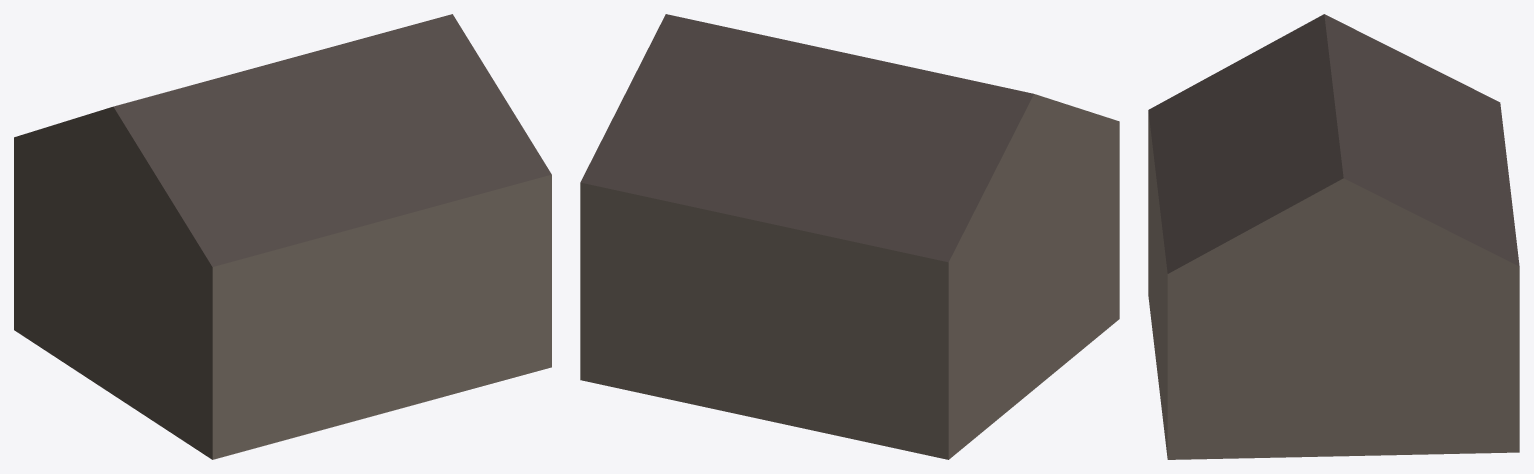
3 views of the same model, side by side, from view 1: azimuth 30°, elevation 25°; view 2: azimuth 150°, elevation 25°; view 3: azimuth 270°, elevation 25° (orthographic). The views are drawn at different scales.
Visible parts, largest first — view 1: HP-w859078901; view 2: HP-w859078901; view 3: HP-w859078901.
Boxes of the visible parts, x1,y1,x2,y2 form: HP-w859078901: [14, 14, 551, 459]; HP-w859078901: [580, 14, 1119, 459]; HP-w859078901: [1148, 14, 1519, 459].
Size of the model in its own units: 11.89 by 8.98 by 10.87.
